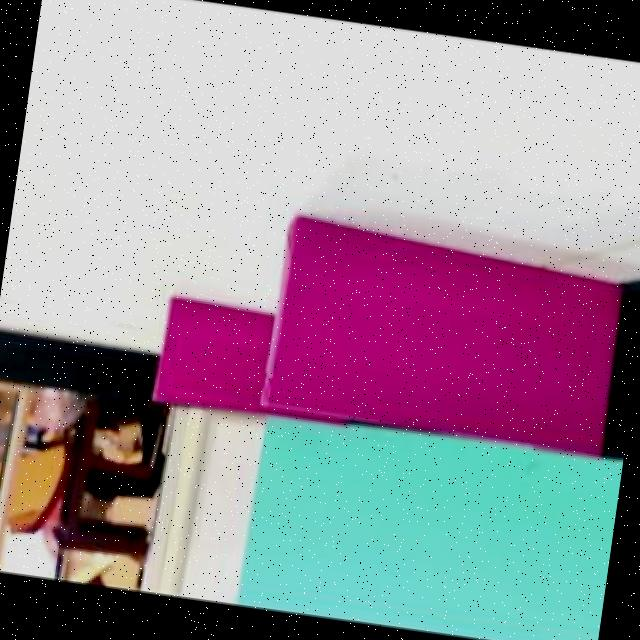xparking: (270, 217, 625, 451), (154, 296, 276, 412)
